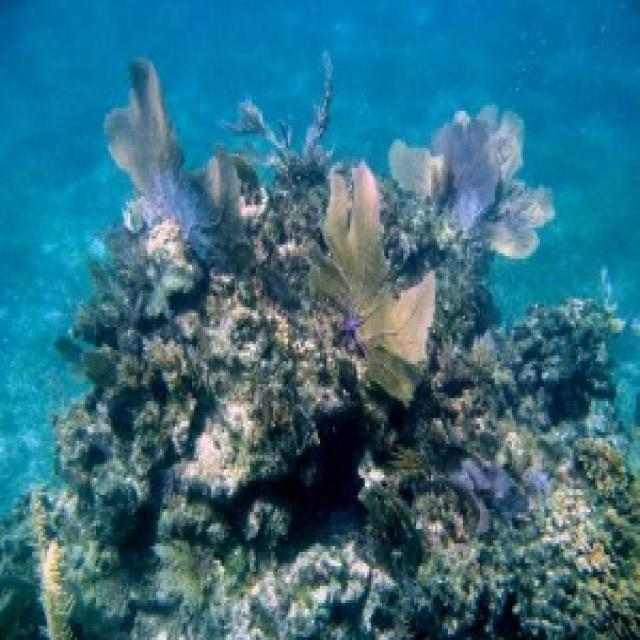Healthy: (364, 300, 639, 638), (67, 231, 272, 595), (308, 163, 434, 399), (142, 541, 394, 638), (391, 112, 554, 254), (193, 322, 315, 476), (106, 61, 208, 237), (65, 593, 182, 638)
